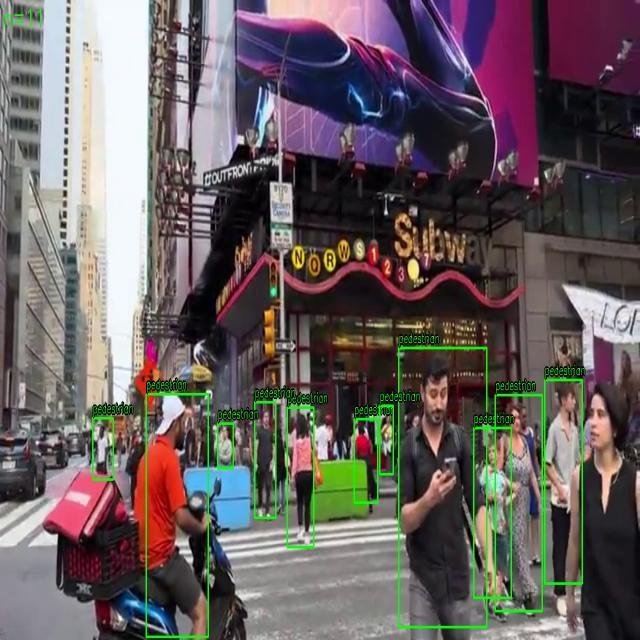person: (399, 348, 487, 628), (146, 393, 208, 638), (495, 394, 543, 612), (544, 380, 582, 584), (474, 428, 512, 598), (287, 407, 314, 548), (254, 402, 276, 518), (354, 418, 378, 504), (92, 418, 114, 480), (379, 405, 394, 475), (218, 423, 234, 469)
